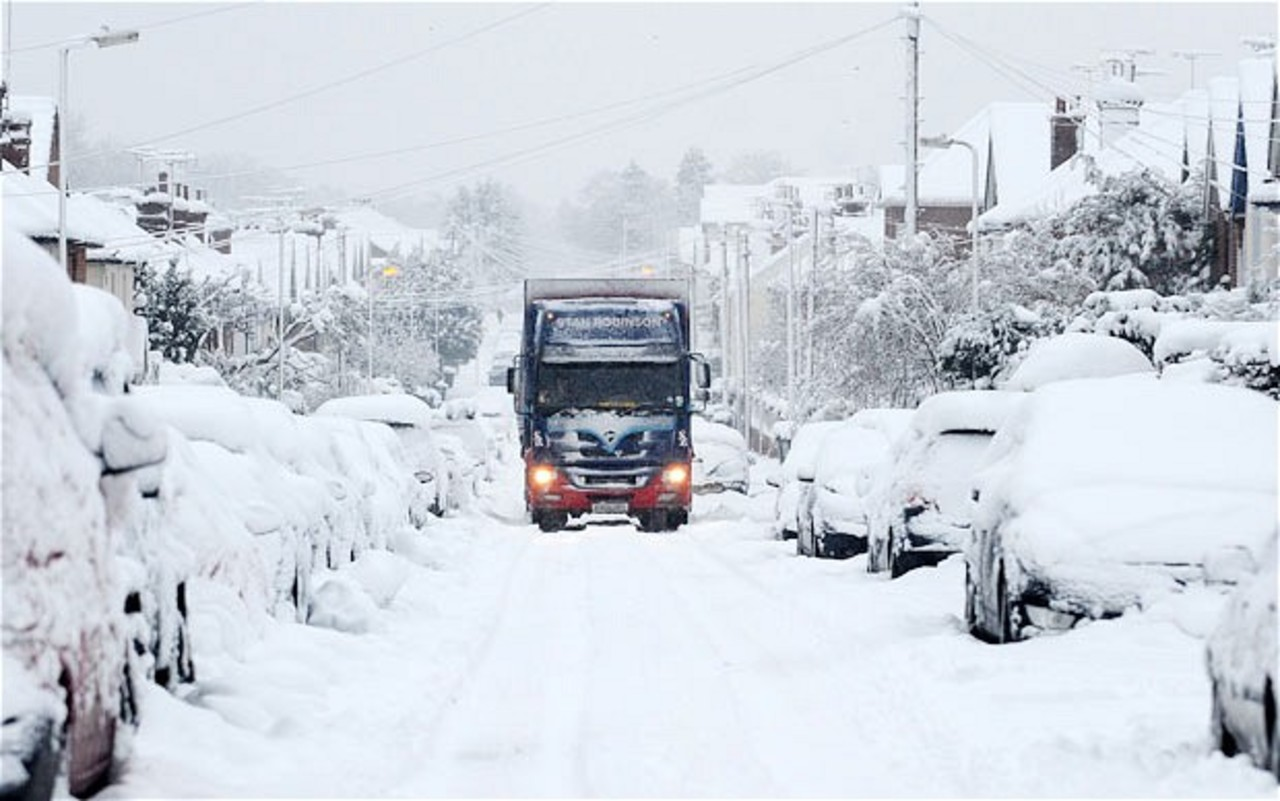car: (976, 386, 1279, 643), (881, 393, 1027, 573), (308, 392, 453, 525), (783, 416, 903, 563), (682, 426, 761, 511)
truck: (515, 278, 704, 530)
